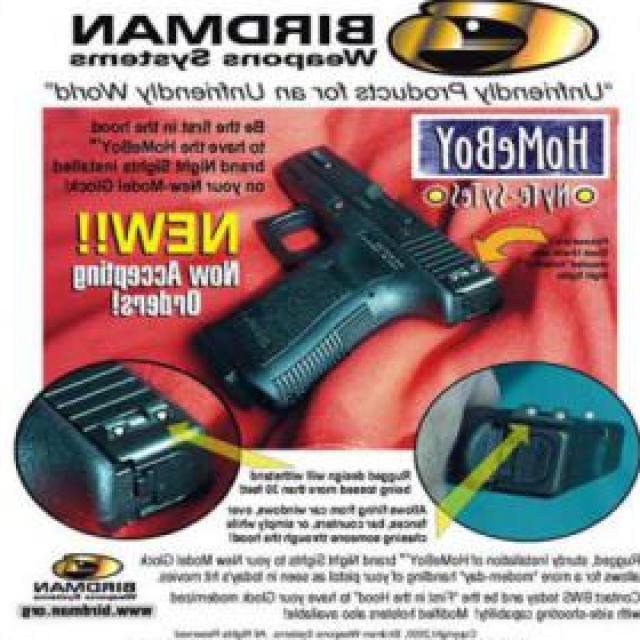pistol: (191, 140, 503, 412)
